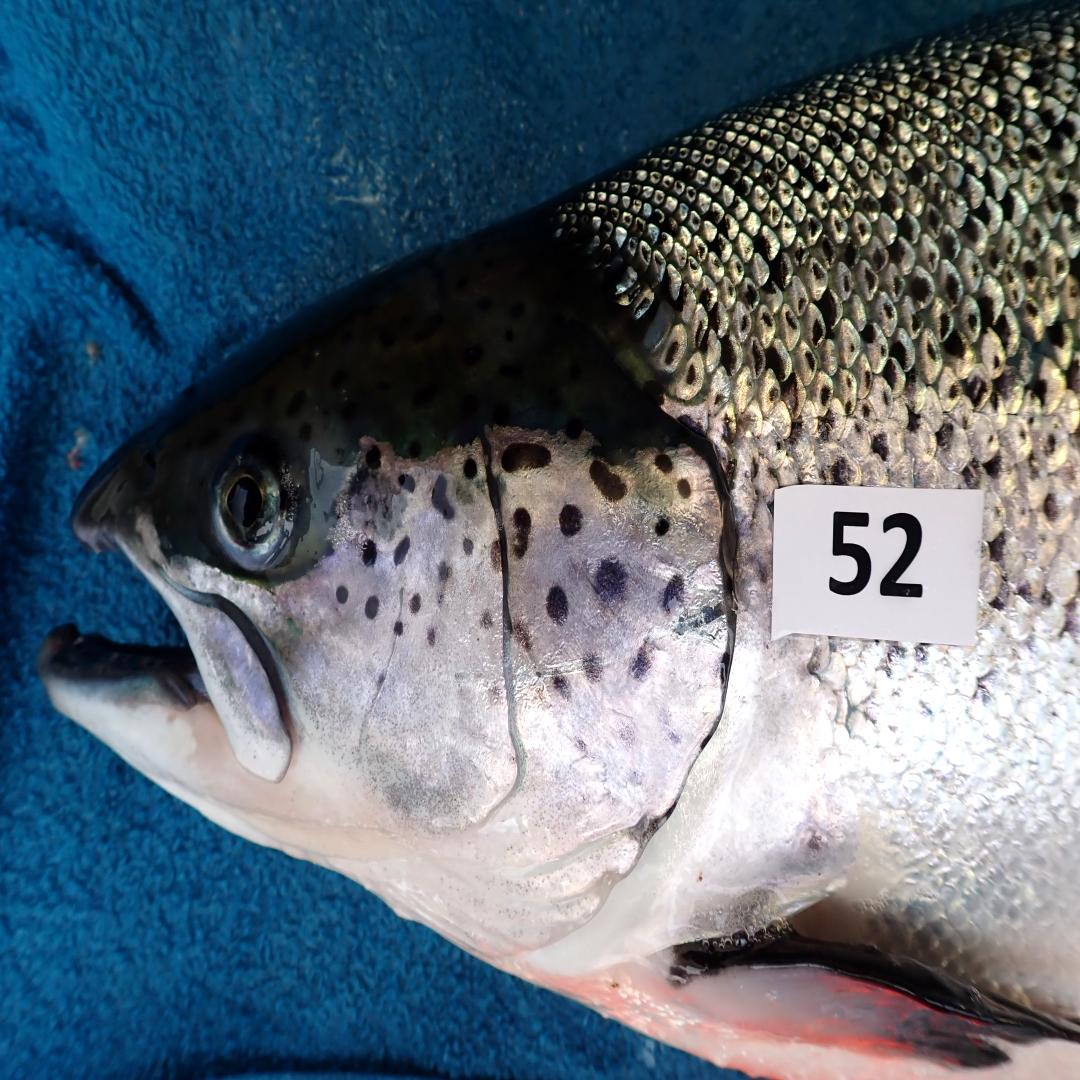roi: (288, 424, 732, 965)
